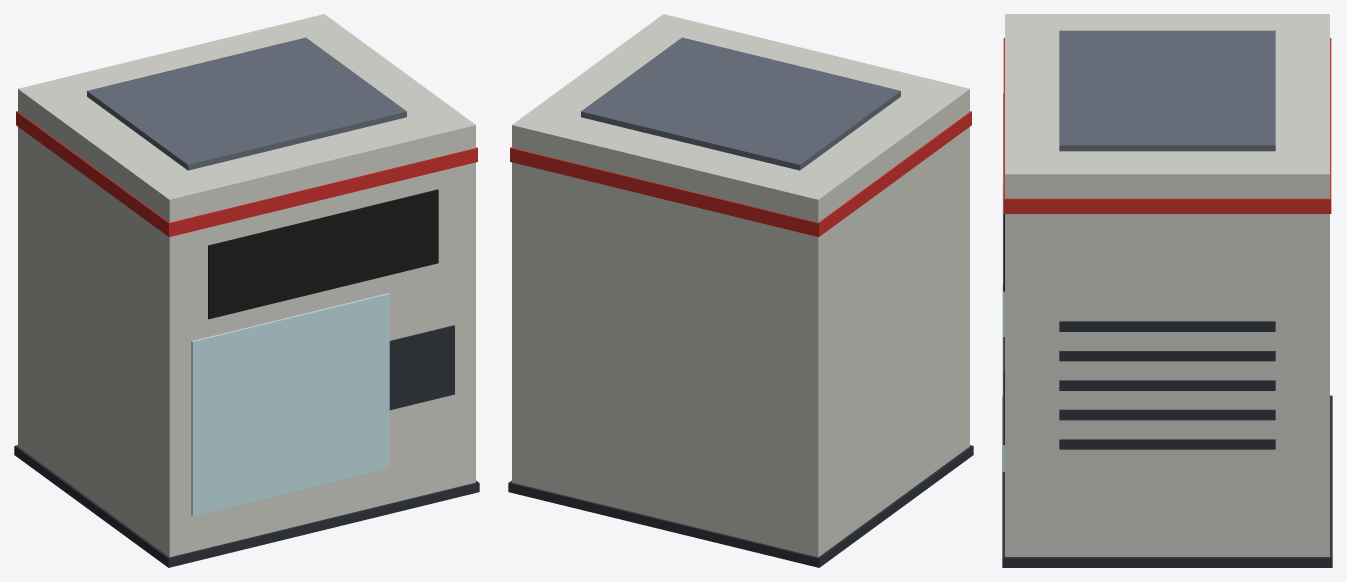
The model's file is machine_printer.glb.
3 views of the same model, side by side, from view 1: azimuth 30°, elevation 25°; view 2: azimuth 150°, elevation 25°; view 3: azimuth 270°, elevation 25° (orthographic). The views are drawn at different scales.
Visible parts, largest first — view 1: machine_printer; view 2: machine_printer; view 3: machine_printer.
Part boxes in pixels (<box>): machine_printer: <box>14,14,479,567</box>; machine_printer: <box>508,14,973,567</box>; machine_printer: <box>1002,14,1332,567</box>.
Bounding box in the file's own units: 1.42 × 1.62 × 1.22.
Materials: 1 (1 with a texture image).
